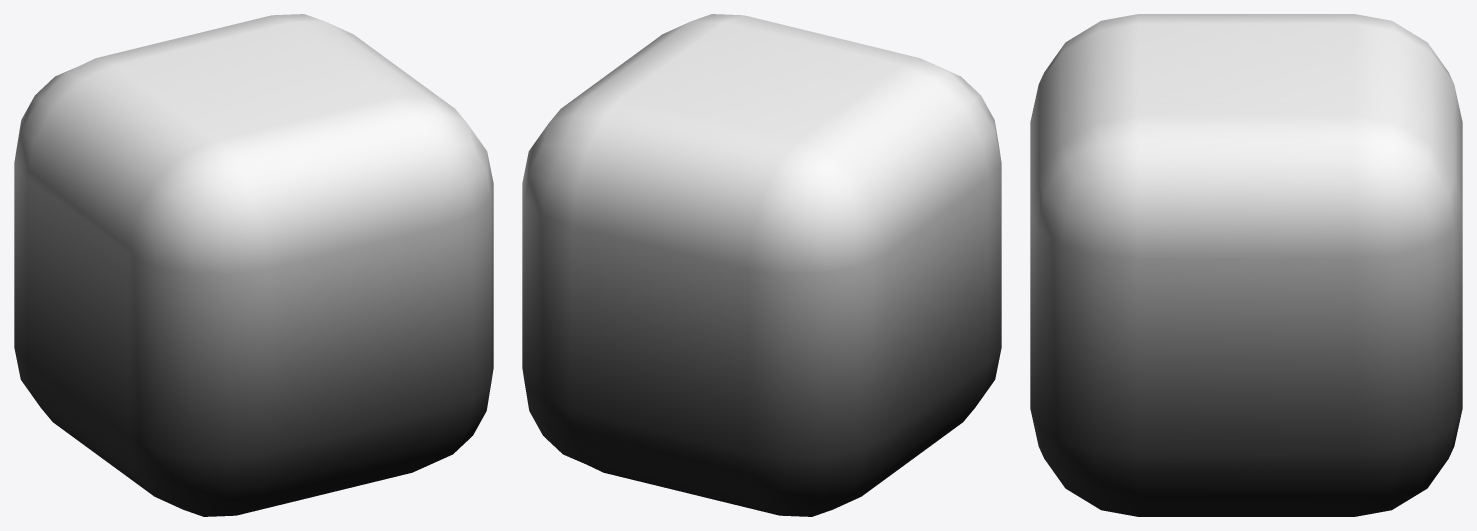
3 renders of one model, left to right at view 1: azimuth 30°, elevation 25°; view 2: azimuth 150°, elevation 25°; view 3: azimuth 270°, elevation 25°, orthographic. The views are drawn at different scales.
Parts seen in each view (by area): view 1: BG_Cube; view 2: BG_Cube; view 3: BG_Cube.
Part boxes in pixels (box(x1,y1,x2,y2)): BG_Cube: box(14, 14, 493, 516); BG_Cube: box(522, 14, 1001, 516); BG_Cube: box(1030, 14, 1462, 516).
Bounding box in the file's own units: 628 × 628 × 628.
